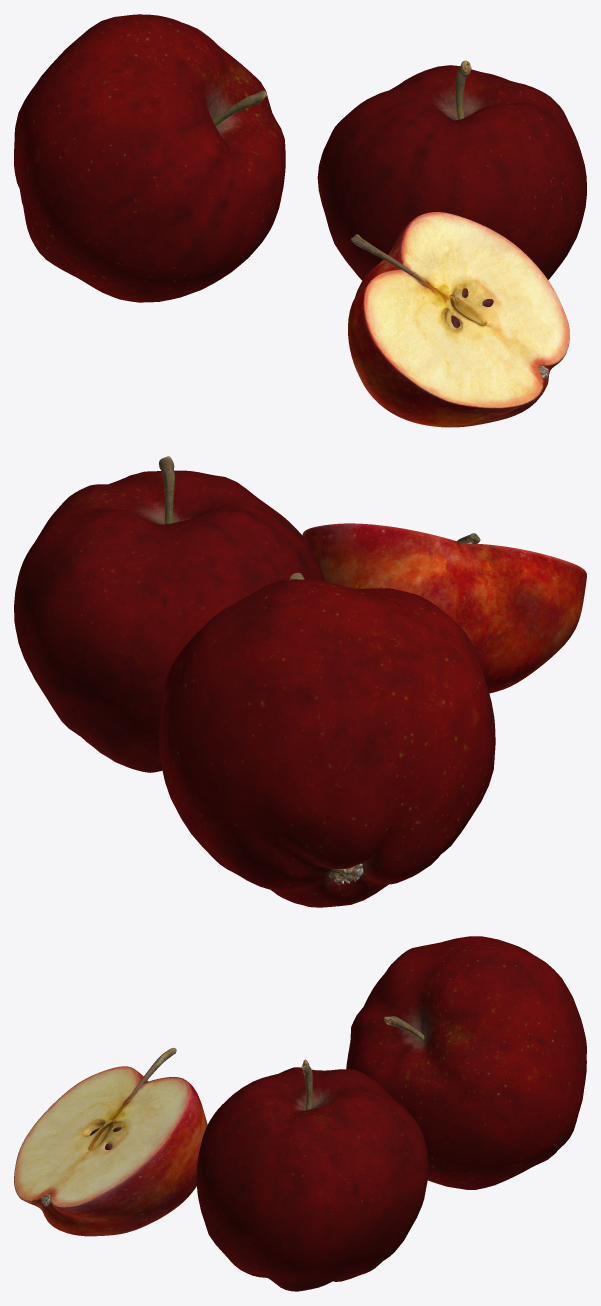
The model's file is 21-MANZANA.FBX.
3 views of the same model, one above another, from view 1: azimuth 30°, elevation 25°; view 2: azimuth 150°, elevation 25°; view 3: azimuth 270°, elevation 25° (orthographic). The views are drawn at different scales.
Visible parts, largest first — view 1: AM130_021_006, AM130_021_004, AM130_021_002, AM130_021_001, AM130_021_005, AM130_021_007; view 2: AM130_021_006, AM130_021_004, AM130_021_002, AM130_021_005; view 3: AM130_021_006, AM130_021_004, AM130_021_002, AM130_021_001.
Boxes of the visible parts, x1,y1,x2,y2 form: AM130_021_006: (14,14,285,302); AM130_021_004: (317,65,586,280); AM130_021_002: (348,212,569,427); AM130_021_001: (350,234,549,379); AM130_021_005: (455,60,471,119); AM130_021_007: (212,90,266,126); AM130_021_006: (159,579,495,907); AM130_021_004: (14,470,324,772); AM130_021_002: (302,523,586,693); AM130_021_005: (159,456,174,524); AM130_021_006: (346,936,586,1189); AM130_021_004: (196,1067,429,1291); AM130_021_002: (14,1066,207,1236); AM130_021_001: (41,1047,176,1207).
Size of the model in its own units: 13.36 by 7.43 by 16.43.
